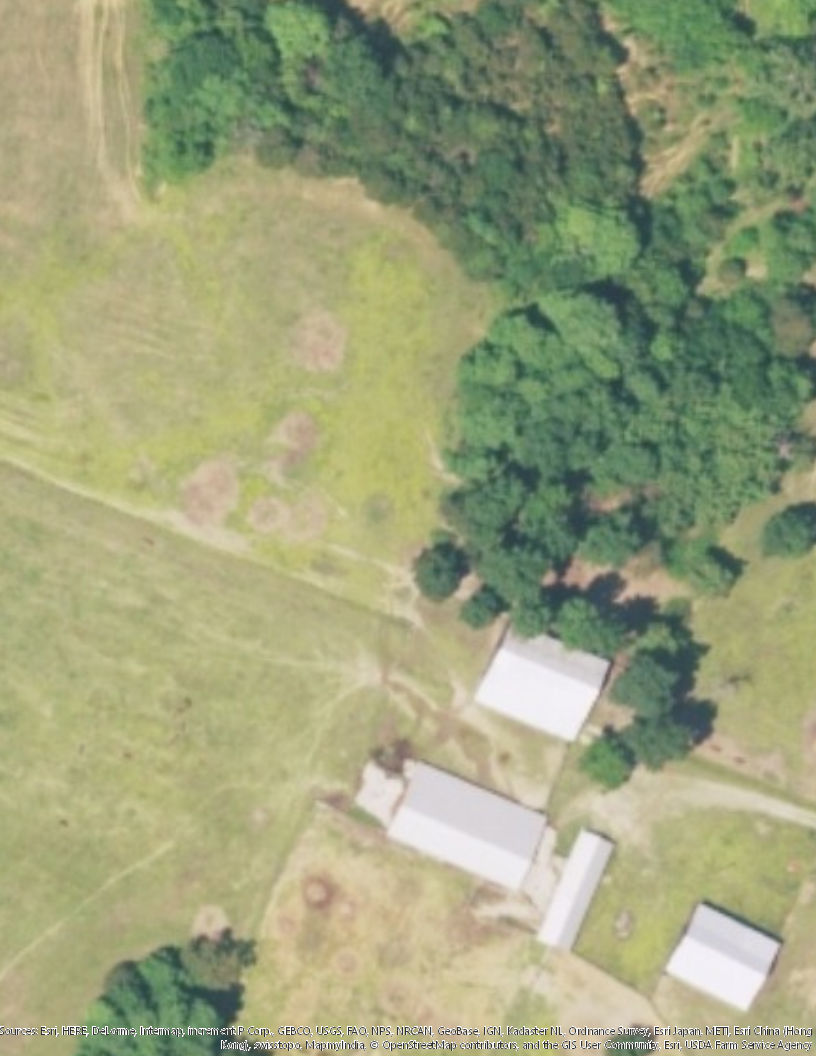cafo: (381, 749, 555, 895), (470, 615, 616, 750), (656, 896, 794, 1020), (532, 823, 621, 956)
